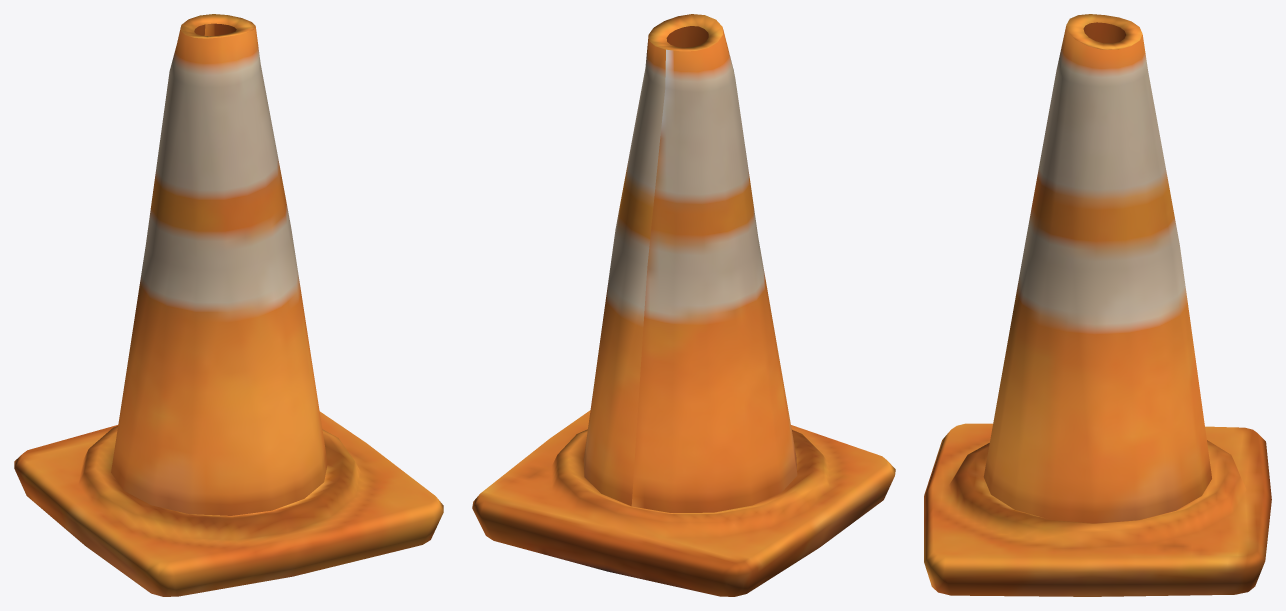
File: nc_prop_cone_02.fbx
The picture shows the model from 3 angles, left to right: view 1: azimuth 30°, elevation 25°; view 2: azimuth 150°, elevation 25°; view 3: azimuth 270°, elevation 25°; orthographic projection. The views are drawn at different scales.
Visible parts, largest first — view 1: nc_prop_cone_02_LOD0; view 2: nc_prop_cone_02_LOD0; view 3: nc_prop_cone_02_LOD0.
Part boxes in pixels (x1,y1,x2,y2): nc_prop_cone_02_LOD0: [14, 14, 443, 596]; nc_prop_cone_02_LOD0: [472, 14, 895, 596]; nc_prop_cone_02_LOD0: [924, 14, 1271, 596].
Size of what is drawn, in the model's own units: 0.3692 by 0.5907 by 0.3712.
Materials: 1 (1 with a texture image).
